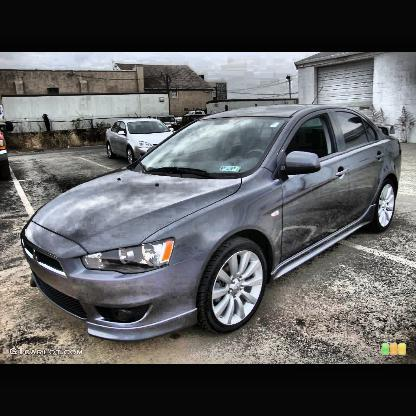Mitsubishi Lancer Sedan 2012: (24, 106, 403, 342)
